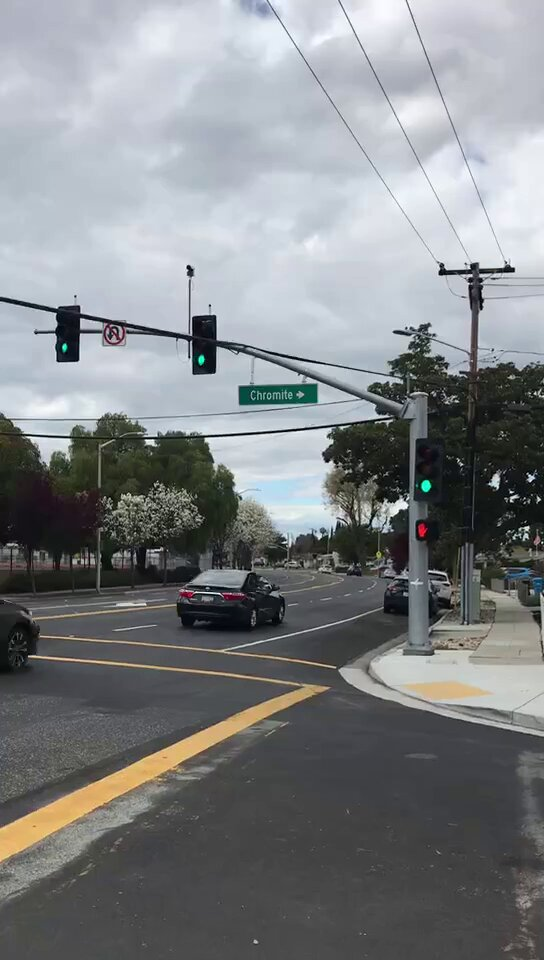green_light: (415, 439, 439, 501), (193, 316, 216, 375), (57, 307, 80, 361)
